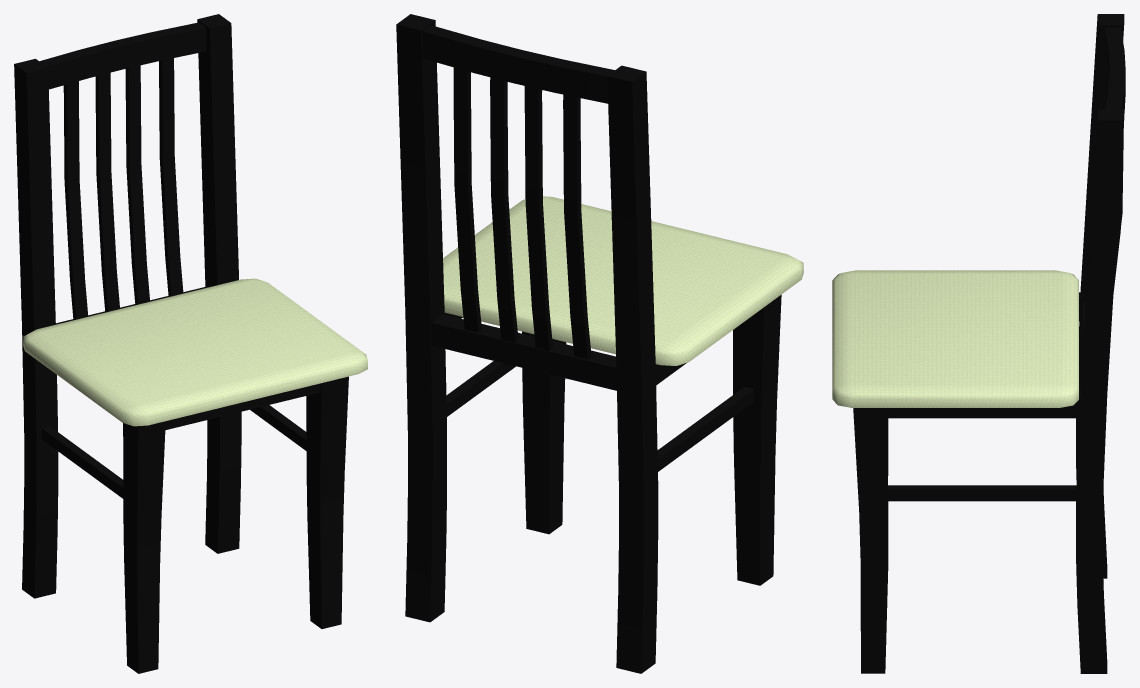
The picture shows the model from 3 angles, left to right: view 1: azimuth 30°, elevation 25°; view 2: azimuth 150°, elevation 25°; view 3: azimuth 270°, elevation 25°; orthographic projection. The views are drawn at different scales.
Parts seen in each view (by area): view 1: chair; view 2: chair; view 3: chair.
Part boxes in pixels (bbox=[...]): chair: bbox=[14, 14, 367, 673]; chair: bbox=[396, 14, 803, 673]; chair: bbox=[832, 14, 1125, 673].
Bounding box in the file's own units: 54.01 × 110 × 52.89.
Materials: 1 (1 with a texture image).
